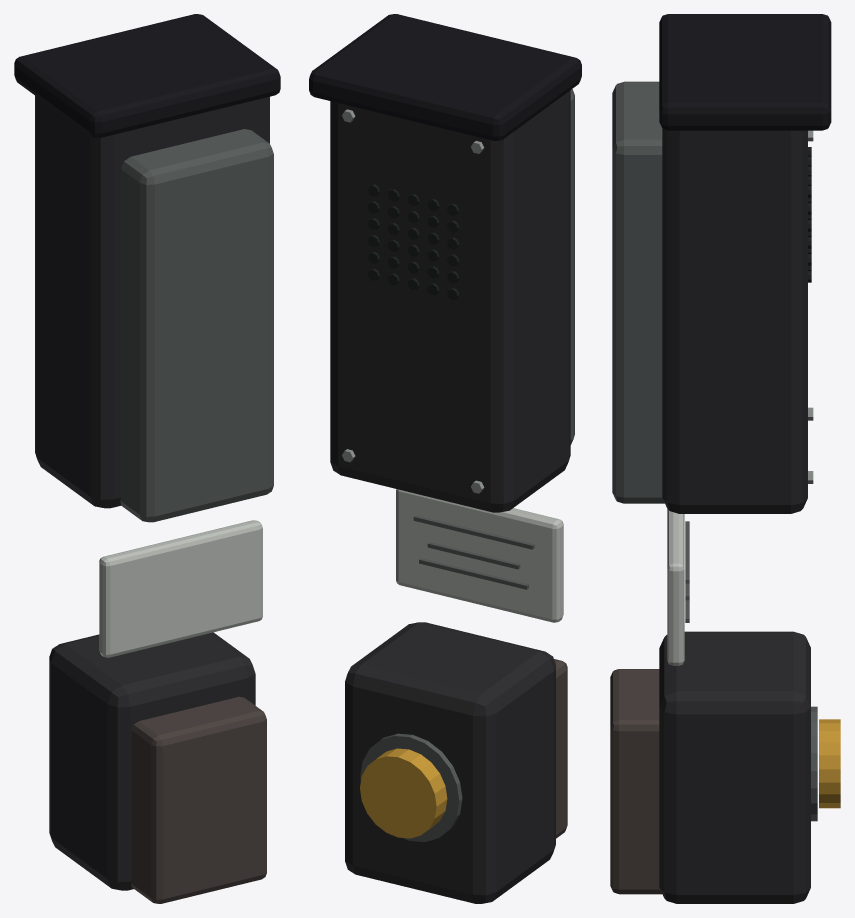
The model's file is sound.glb.
3 renders of one model, left to right at view 1: azimuth 30°, elevation 25°; view 2: azimuth 150°, elevation 25°; view 3: azimuth 270°, elevation 25°, orthographic. The views are drawn at different scales.
Visible parts, largest first — view 1: sound; view 2: sound; view 3: sound.
Part boxes in pixels (bbox=[...]): sound: bbox=[14, 14, 280, 903]; sound: bbox=[309, 14, 581, 903]; sound: bbox=[610, 14, 840, 903].
Bounding box in the file's own units: 0.157 × 0.623 × 0.1595.
